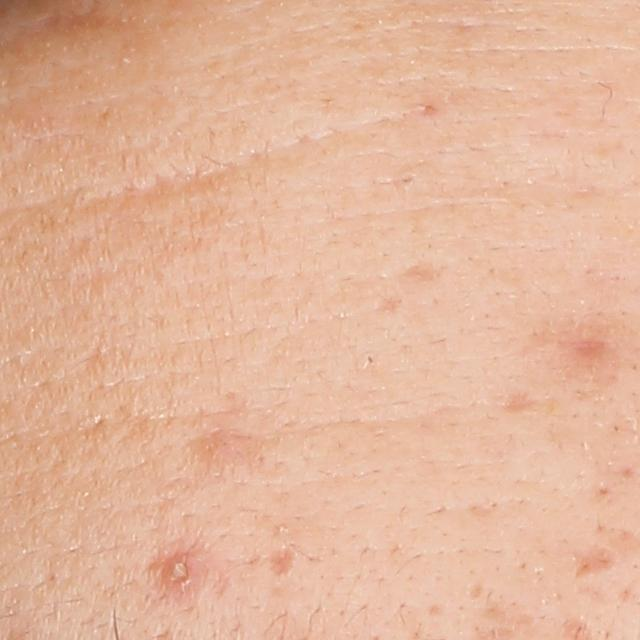atrophic_scar: (568, 541, 624, 586), (392, 259, 449, 289), (483, 598, 537, 626), (265, 543, 301, 581)
pustule: (155, 547, 209, 608)
